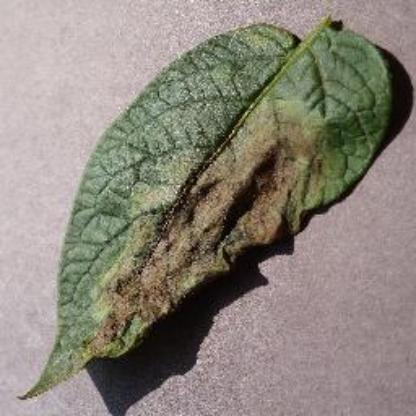Late-Blight: (21, 13, 397, 406)
